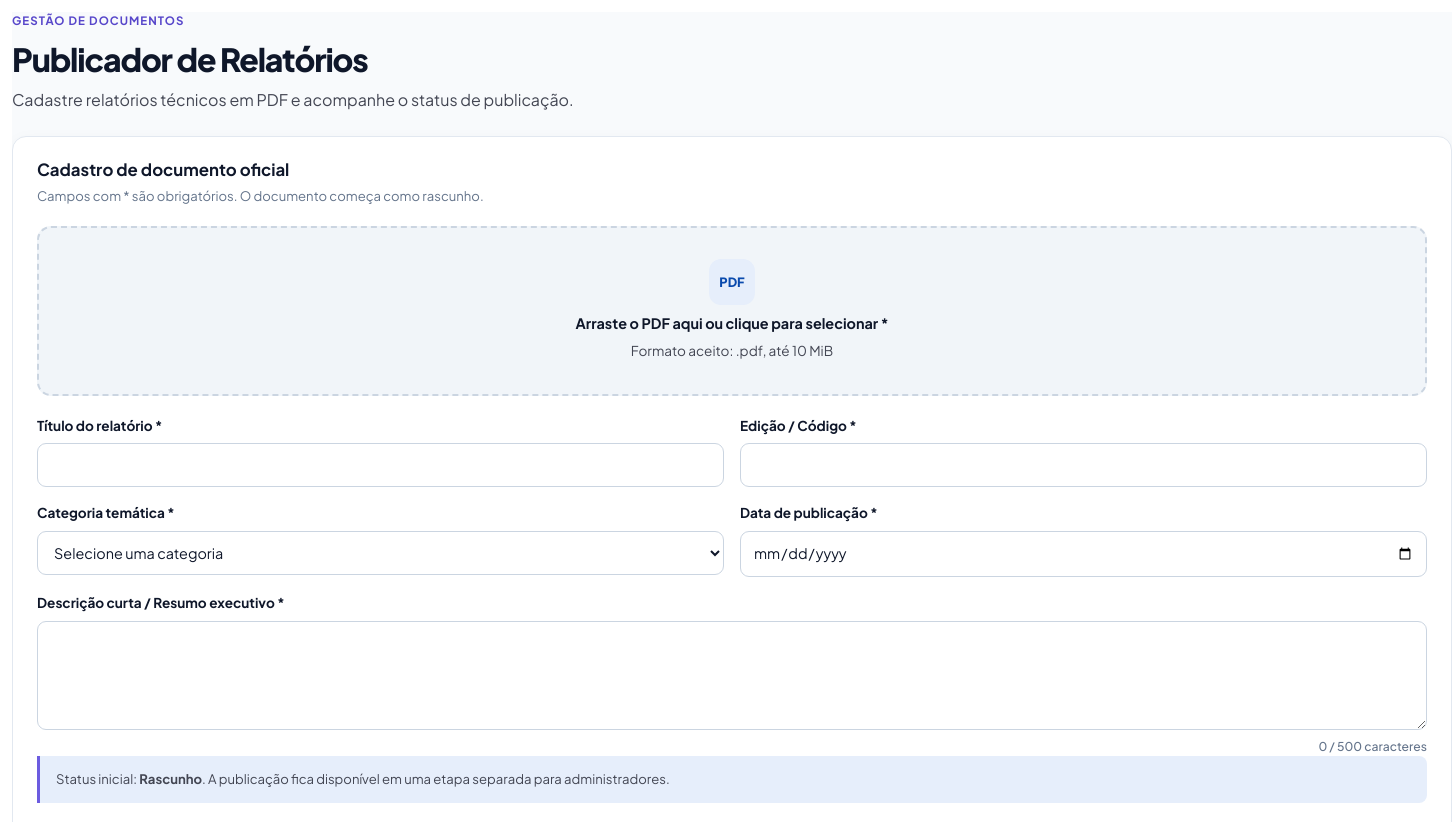
Test: AdminRelatoriosPage › mostra campos, categorias, contador e lista com os selos de status
This screenshot has width=1452, height=822.
Check: the heading "Publicador de Relatórios" is shown, box top-left (12, 39), bottom-right (368, 79)
Check: the text "0 / 500 caracteres" is shown, box top-left (1318, 738), bottom-right (1427, 754)
Type "Resumo" into the text box labelled "Descrição curta / Resumo executivo * 0 / 500 caracteres" at (732, 676), box top-left (37, 621), bottom-right (1427, 730)
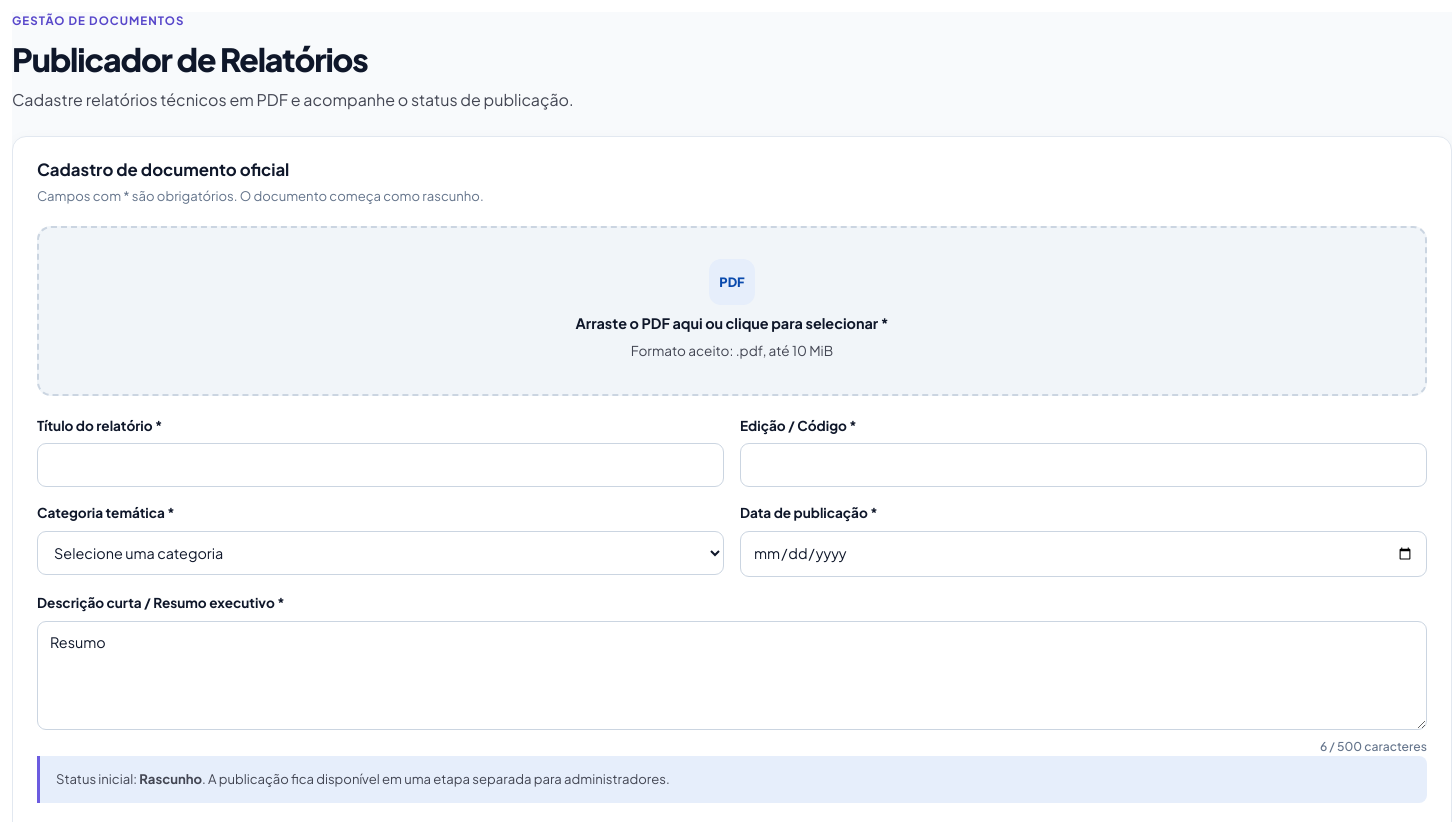
Check: the text "6 / 500 caracteres" is shown, box top-left (1320, 738), bottom-right (1427, 754)
